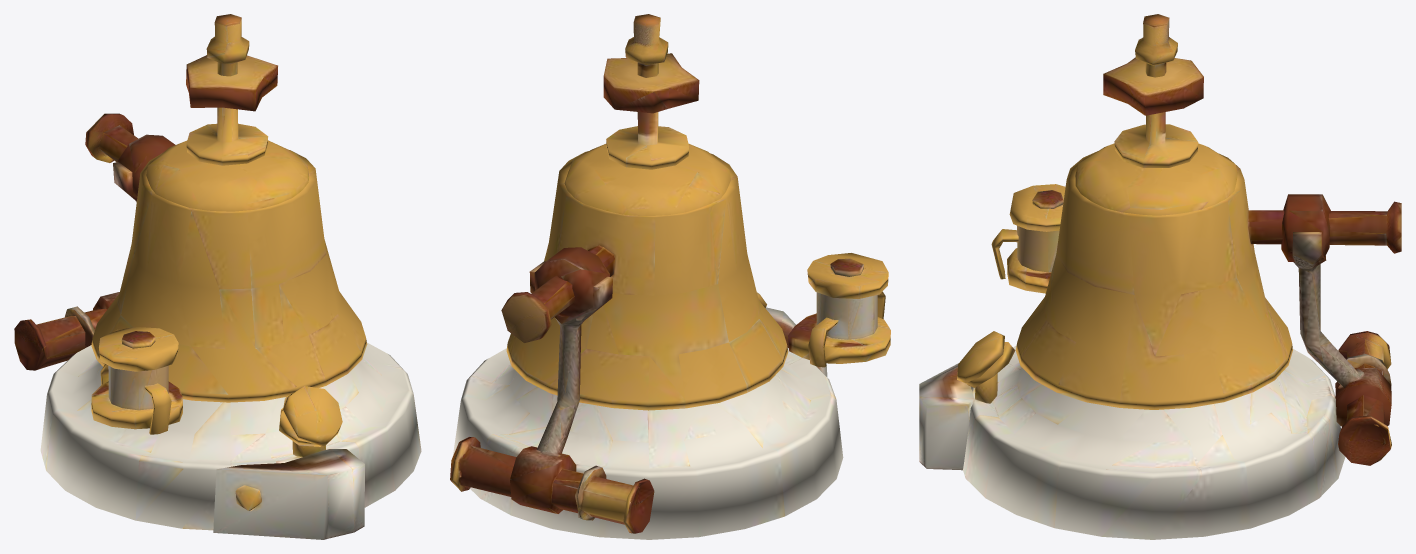
File: keepsake-ship-bell.glb
3 renders of one model, left to right at view 1: azimuth 30°, elevation 25°; view 2: azimuth 150°, elevation 25°; view 3: azimuth 270°, elevation 25°, orthographic. The views are drawn at different scales.
Visible parts, largest first — view 1: keepsake-ship-bell; view 2: keepsake-ship-bell; view 3: keepsake-ship-bell.
Part boxes in pixels (bbox=[...]): keepsake-ship-bell: bbox=[14, 14, 421, 539]; keepsake-ship-bell: bbox=[450, 14, 890, 539]; keepsake-ship-bell: bbox=[919, 14, 1401, 539].
Size of the model in its own units: 0.5981 by 0.7 by 0.7.
1 material, 1 textured.
